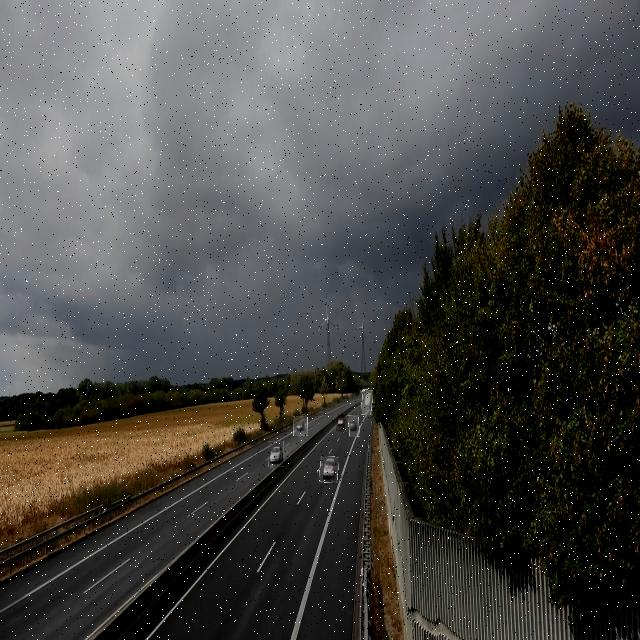Car: (320, 457, 338, 483), (268, 441, 284, 467), (294, 416, 308, 436), (349, 415, 359, 437), (336, 414, 346, 432)
Truck: (362, 390, 372, 415)
